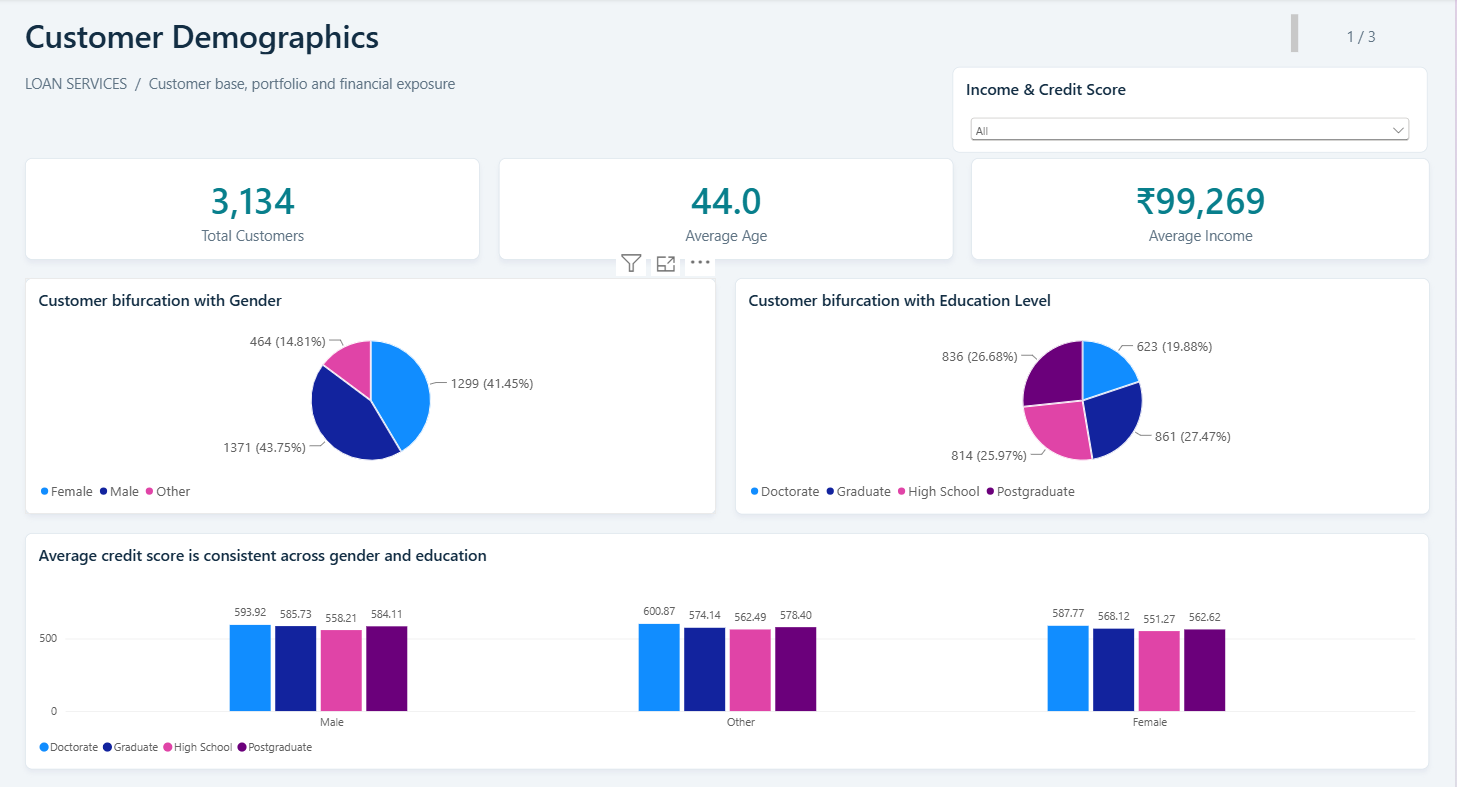

Layout of this report page (visuals, bound fields, positions):
{"tool":"powerbi","page":{"name":"Customer Demographics","canvas":[1600,900],"ordinal":0},"visuals":[{"type":"textbox","box":[28,18,1400,44],"z":12},{"type":"textbox","box":[1480,30,92,26],"z":12},{"type":"slicer","title":"Income & Credit Score","fields":{"Values":["Customer_Details.Income Groups","Customer_Details.Credit Score Buckets"]},"box":[1048,76,522,94],"z":12},{"type":"textbox","box":[28,83,960,28],"z":12},{"type":"card","fields":{"Values":["CountNonNull(Customer_Details.Customer_ID)"]},"box":[28,176,500,112],"z":12},{"type":"card","fields":{"Values":["Avg(Customer_Details.Age)"]},"box":[548,176,500,112],"z":12},{"type":"card","fields":{"Values":["Avg(Customer_Details.Income)"]},"box":[1068,176,504,112],"z":12},{"type":"pieChart","title":"Customer bifurcation with Gender","fields":{"Category":["Customer_Details.Gender"],"Y":["CountNonNull(Customer_Details.Customer_ID)"]},"box":[28,308,760,260],"z":12},{"type":"pieChart","title":"Customer bifurcation with Education Level","fields":{"Category":["Customer_Details.Education_Level"],"Y":["CountNonNull(Customer_Details.Customer_ID)"]},"box":[808,308,764,260],"z":12},{"type":"clusteredColumnChart","title":"Average credit score is consistent  across gender and education","fields":{"Category":["Customer_Details.Gender"],"Series":["Customer_Details.Education_Level"],"Y":["Avg(Customer_Details.Credit_Score)"]},"box":[28,588,1544,260],"z":12},{"type":"textbox","box":[28,868,1540,24],"z":12}]}

Visuals, with their boxes on the page's 1600x900 design canvas (x1, y1, x2, y2). These are canvas units, not pixel positions in the 1457x787 screenshot, which may show the page scaled, cropped or inside an application window:
textbox: bbox=(28, 18, 1428, 62)
textbox: bbox=(1480, 30, 1572, 56)
"Income & Credit Score" slicer: bbox=(1048, 76, 1570, 170)
textbox: bbox=(28, 83, 988, 111)
card - CountNonNull(Customer_Details.Customer_ID): bbox=(28, 176, 528, 288)
card - Avg(Customer_Details.Age): bbox=(548, 176, 1048, 288)
card - Avg(Customer_Details.Income): bbox=(1068, 176, 1572, 288)
"Customer bifurcation with Gender" pieChart: bbox=(28, 308, 788, 568)
"Customer bifurcation with Education Level" pieChart: bbox=(808, 308, 1572, 568)
"Average credit score is consistent  across gender and education" clusteredColumnChart: bbox=(28, 588, 1572, 848)
textbox: bbox=(28, 868, 1568, 892)
